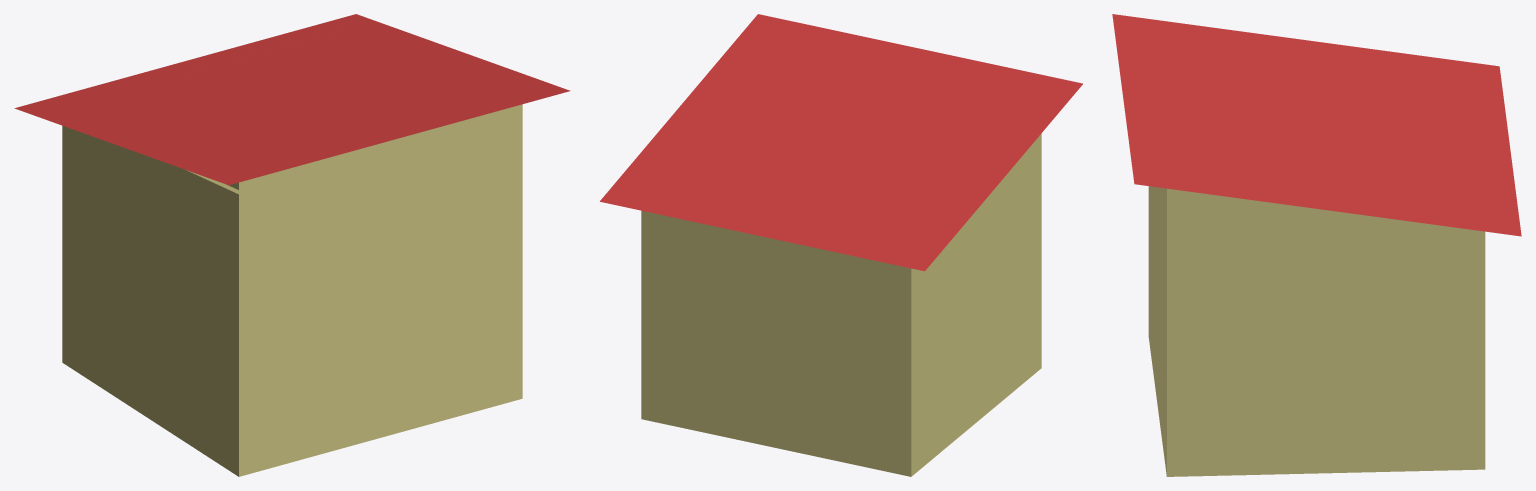
3 renders of one model, left to right at view 1: azimuth 30°, elevation 25°; view 2: azimuth 150°, elevation 25°; view 3: azimuth 270°, elevation 25°, orthographic. The views are drawn at different scales.
Bounding box in the file's own units: 9.25 × 8.93 × 7.42.
